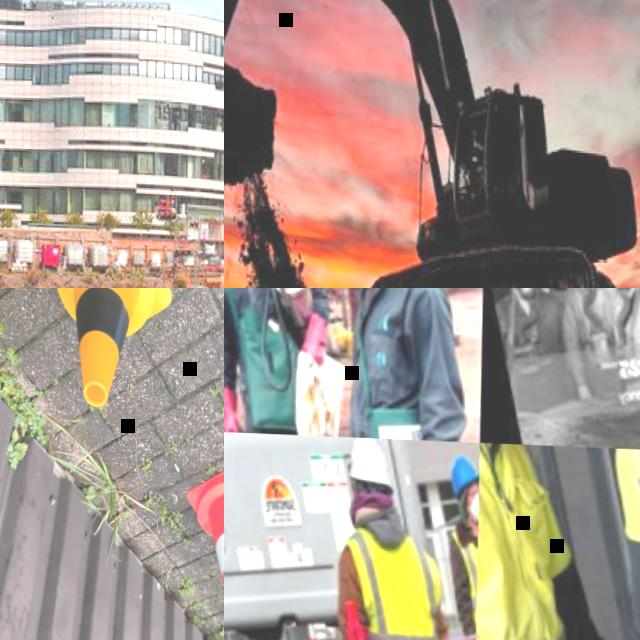Hardhat: (346, 433, 394, 491), (448, 455, 477, 496)
Mask: (465, 495, 476, 522), (512, 288, 537, 296)
NO-Safety Vest: (346, 288, 446, 436), (224, 288, 301, 434), (492, 288, 565, 407), (567, 288, 623, 376), (613, 288, 640, 404)
Person: (469, 440, 640, 640), (328, 434, 463, 640), (321, 288, 476, 438), (224, 288, 340, 436), (490, 288, 572, 416), (438, 453, 480, 640)
Safety Cone: (31, 288, 177, 408), (179, 458, 224, 621)
Safety Vest: (467, 441, 577, 640), (331, 525, 457, 640), (610, 443, 640, 584)
vehicle: (224, 0, 640, 288)
